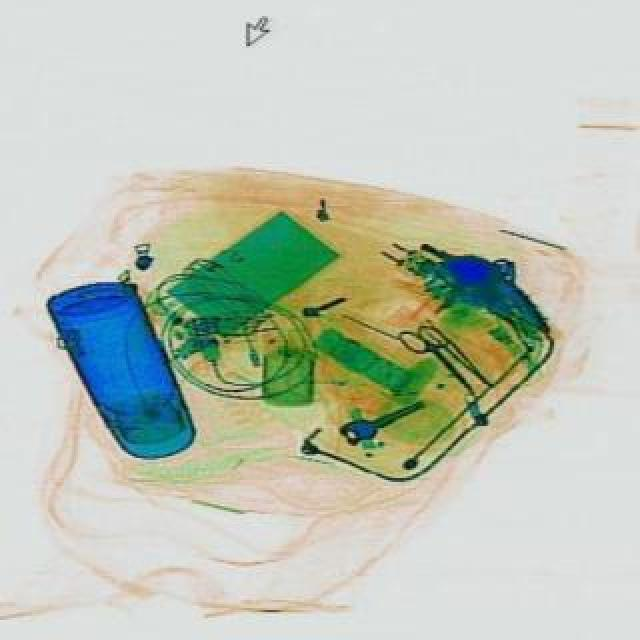pliers: (394, 318, 484, 406)
